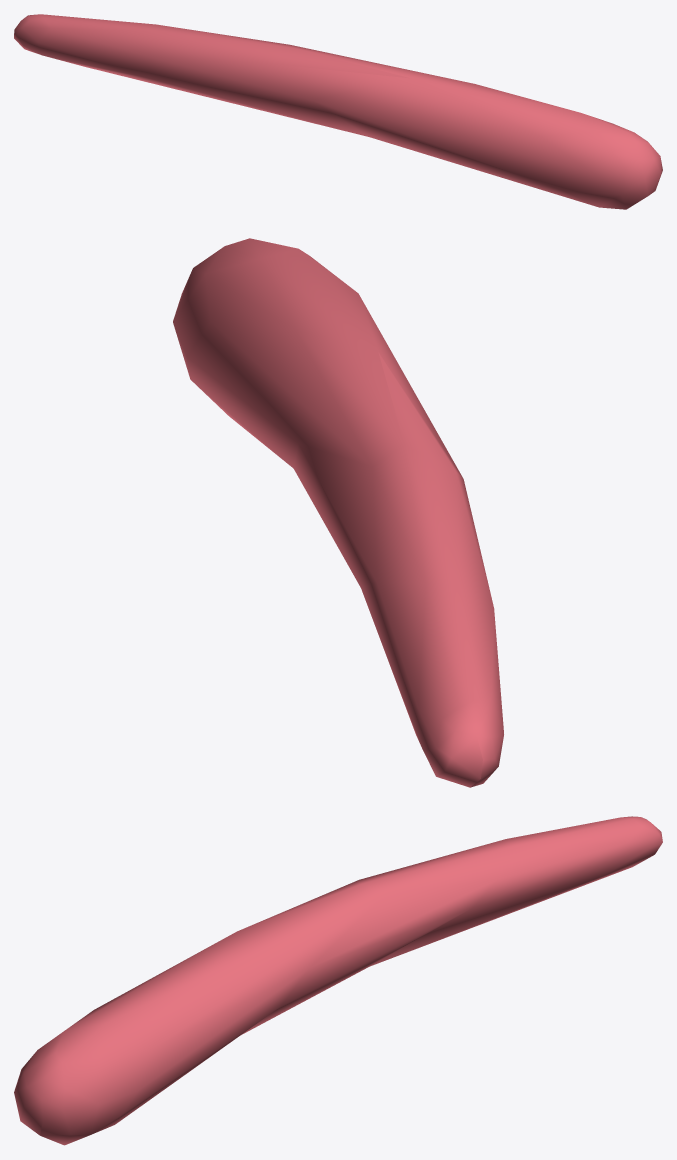
File: fma8675_fj6010.glb
The picture shows the model from 3 angles, top to bottom: view 1: azimuth 30°, elevation 25°; view 2: azimuth 150°, elevation 25°; view 3: azimuth 270°, elevation 25°; orthographic projection. The views are drawn at different scales.
Visible parts, largest first — view 1: FMA8675_FJ6010; view 2: FMA8675_FJ6010; view 3: FMA8675_FJ6010.
Part boxes in pixels (x1=…): FMA8675_FJ6010: x1=14, y1=14, x2=662, y2=209; FMA8675_FJ6010: x1=173, y1=238, x2=503, y2=787; FMA8675_FJ6010: x1=14, y1=816, x2=662, y2=1145.
Bounding box in the file's own units: 0.0128 × 0.00354 × 0.0151.
